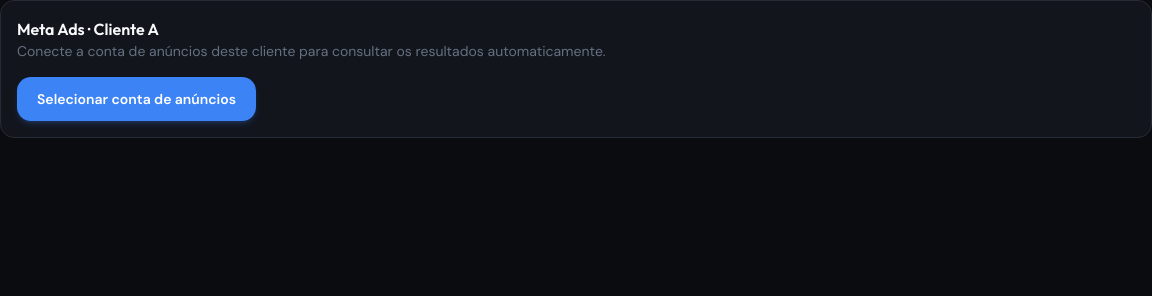
Test: client Meta connection › requires explicit selection and binds only the selected account to this client
Later steps or results of the test are not shown.
Click the button "Selecionar conta de anúncios" at (137, 99), box left=17, top=77, right=256, bottom=121
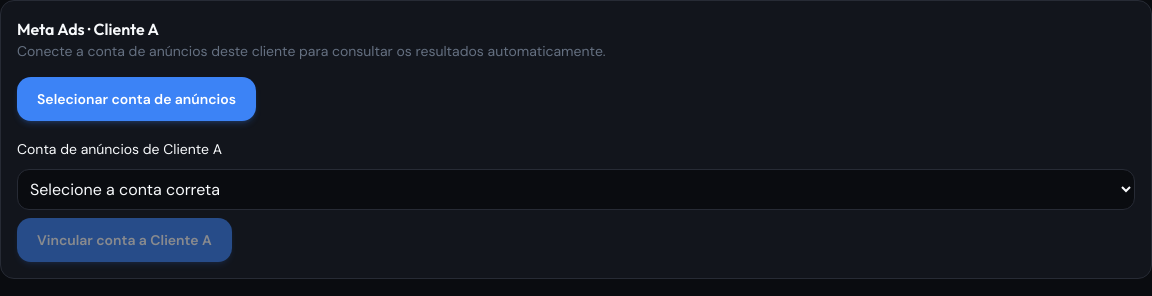
Now the button "Vincular conta a Cliente A" is disabled, box left=17, top=218, right=232, bottom=262
